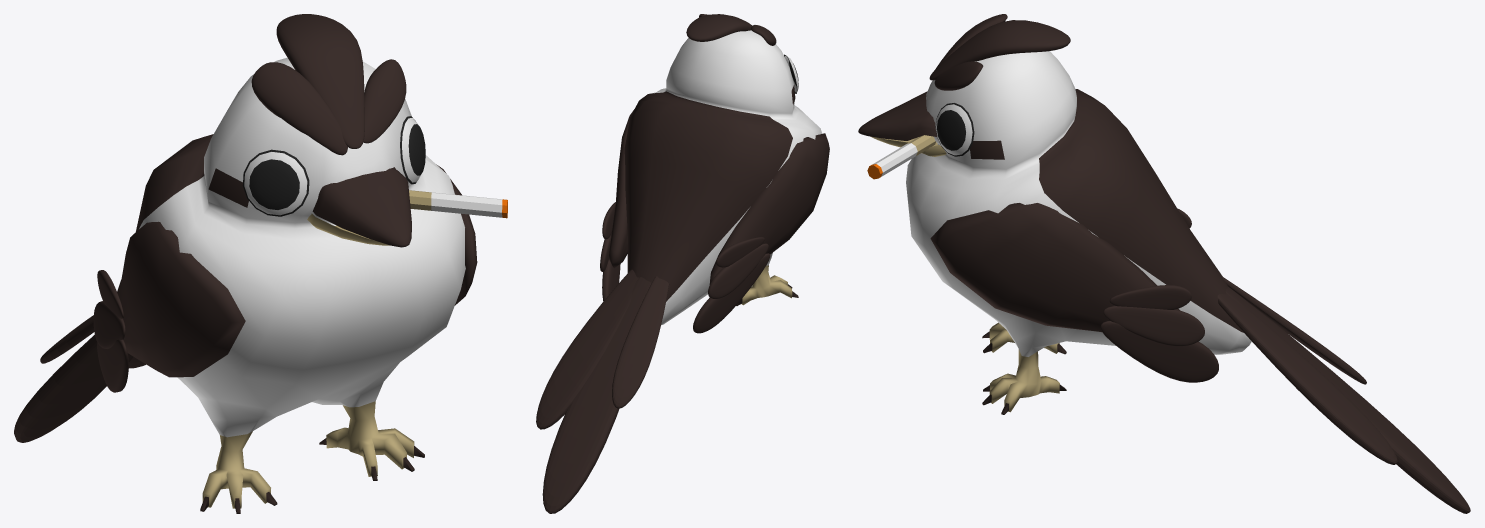
File: Kookabara_0.1.fbx
The picture shows the model from 3 angles, left to right: view 1: azimuth 30°, elevation 25°; view 2: azimuth 150°, elevation 25°; view 3: azimuth 270°, elevation 25°; orthographic projection. The views are drawn at different scales.
Visible parts, largest first — view 1: Cube.008, Cube.021, Cube.024, Cube.020, Cube.022, Circle.002, Cube.023, Cylinder; view 2: Cube.008, Cube.022, Cube.021, Cube.023, Cube.024; view 3: Cube.008, Cube.021, Cube.022, Cube.023, Cube.024, Cube.020, Circle.002, Cylinder.
Part boxes in pixels (x1,y1,x2,y2): Cube.008: [136, 57, 465, 513]; Cube.021: [117, 164, 477, 377]; Cube.024: [251, 14, 406, 155]; Cube.020: [307, 167, 411, 247]; Cube.022: [14, 315, 145, 442]; Circle.002: [242, 116, 425, 216]; Cube.023: [93, 270, 128, 392]; Cylinder: [409, 190, 507, 218]; Cube.008: [624, 30, 821, 325]; Cube.022: [536, 269, 669, 513]; Cube.021: [609, 109, 829, 284]; Cube.023: [600, 202, 770, 333]; Cube.024: [686, 14, 776, 45]; Cube.008: [906, 51, 1251, 414]; Cube.021: [930, 203, 1179, 332]; Cube.022: [1217, 276, 1470, 513]; Cube.023: [1100, 208, 1218, 382]; Cube.024: [929, 14, 1070, 90]; Cube.020: [858, 91, 946, 156]; Circle.002: [935, 103, 974, 156]; Cylinder: [867, 135, 935, 179].
Size of the model in its own units: 309 by 612 by 696.
